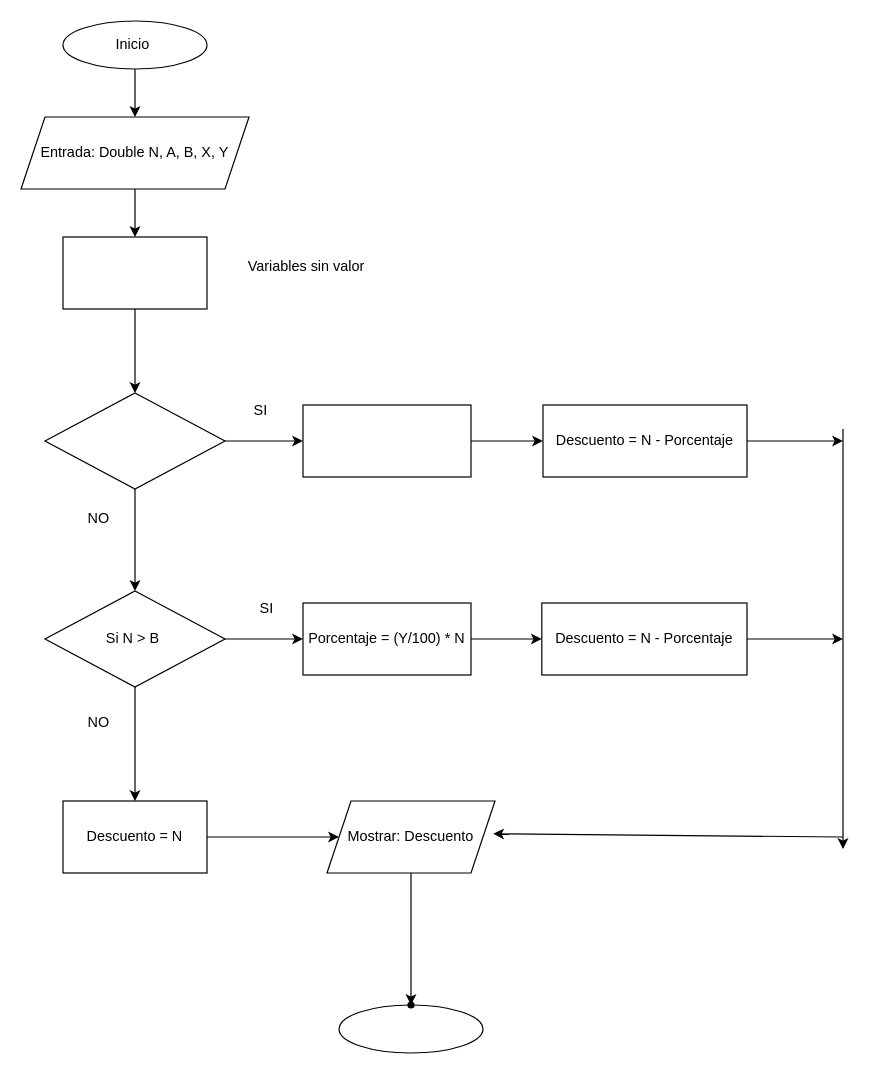
Image size: 874x1074. Some labels were removed from this diagram. Here are the shapes that lost their labels. From the top down, the box of each, then its label:
(62, 236, 207, 309): Descuento = 0 Porcentaje = 0
(44, 392, 225, 489): Si N > A && N < B
(302, 404, 471, 477): Porcentaje = (X/100) * N
(338, 1004, 483, 1053): Fin
